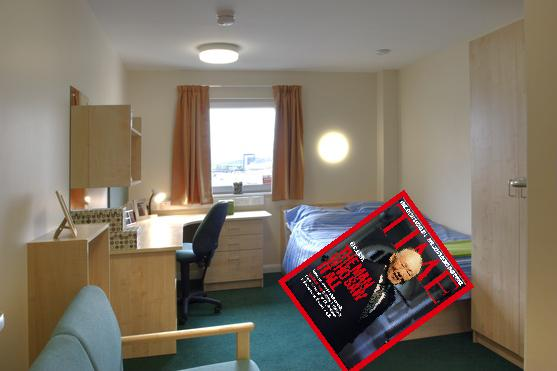times: (276, 188, 474, 371)
